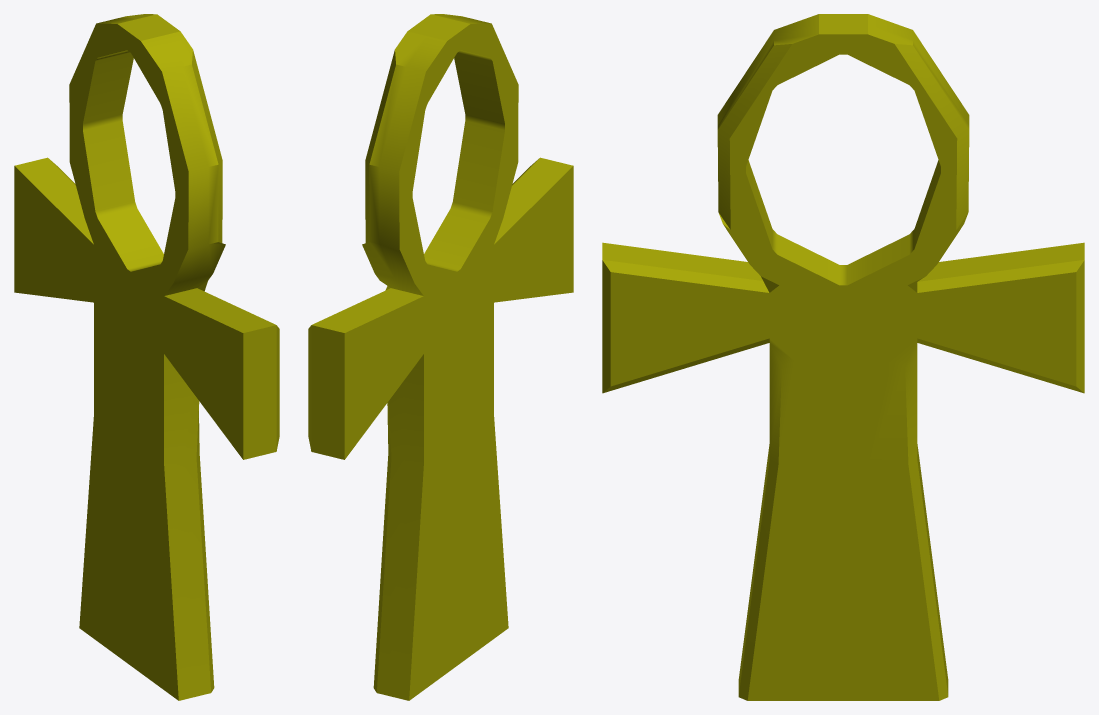
The model's file is Ank.fbx.
3 views of the same model, side by side, from view 1: azimuth 30°, elevation 25°; view 2: azimuth 150°, elevation 25°; view 3: azimuth 270°, elevation 25° (orthographic). The views are drawn at different scales.
Parts seen in each view (by area): view 1: pCube2; view 2: pCube2; view 3: pCube2.
Boxes of the visible parts, left/top/right/bottom form: pCube2: left=14, top=14, right=279, bottom=700; pCube2: left=308, top=14, right=573, bottom=700; pCube2: left=602, top=14, right=1084, bottom=700.
Bounding box in the file's own units: 0.2482 × 3.73 × 2.45.
